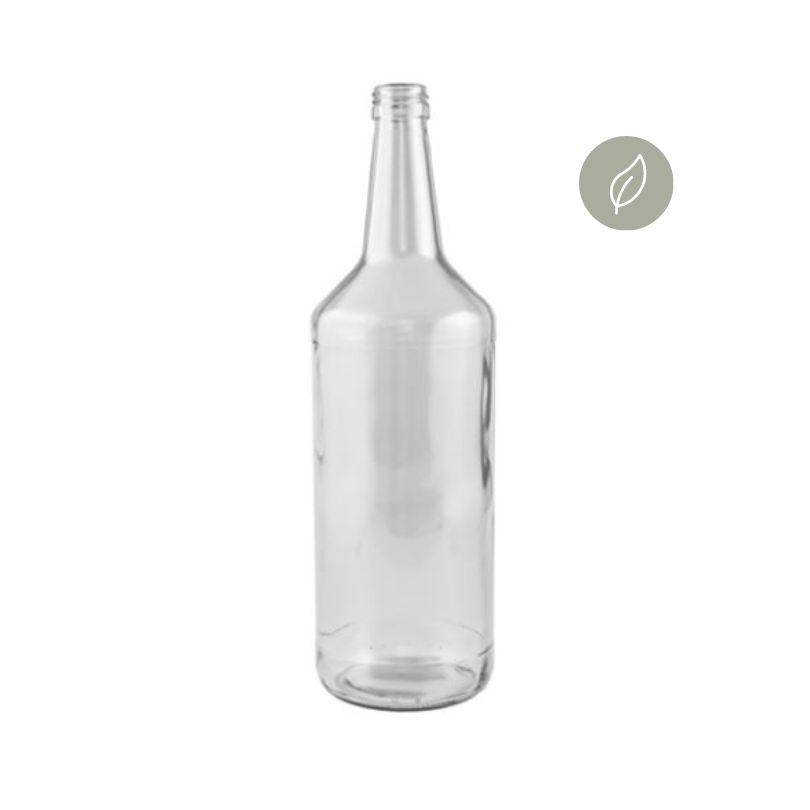glass_bottle: (284, 64, 527, 737)
